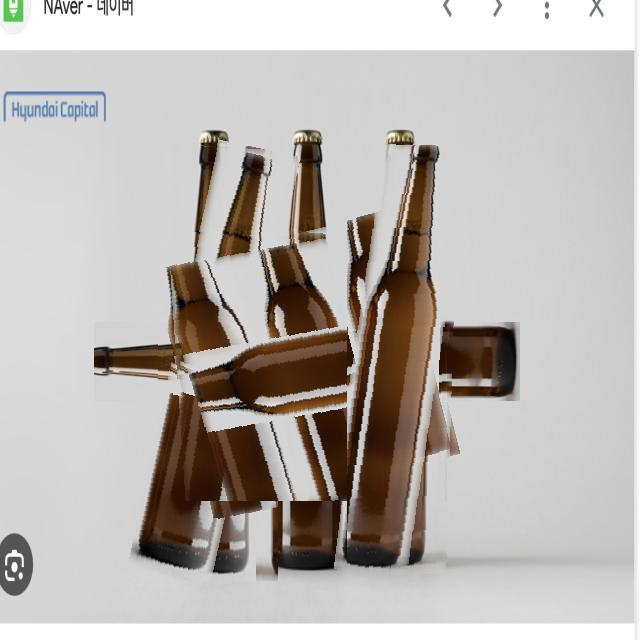recyclable: (167, 222, 447, 501), (150, 142, 278, 581), (347, 145, 459, 578)
